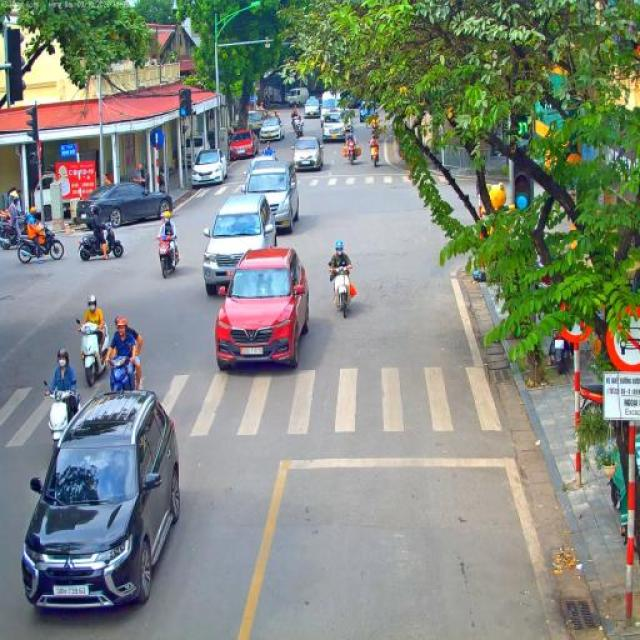car: (20, 390, 181, 612), (214, 246, 310, 372), (202, 192, 278, 296), (76, 182, 173, 228), (240, 159, 300, 233), (192, 148, 228, 186), (291, 135, 324, 171), (321, 109, 354, 142), (228, 129, 258, 161), (260, 117, 284, 142), (245, 111, 264, 138), (304, 98, 321, 120)
motorcycle: (579, 382, 633, 470), (43, 380, 81, 461), (76, 318, 110, 387), (77, 222, 125, 262), (16, 225, 65, 264), (329, 264, 351, 318), (105, 356, 137, 392), (156, 232, 180, 278), (547, 328, 571, 373), (0, 215, 25, 250), (367, 138, 381, 168), (344, 138, 358, 166), (294, 122, 304, 138), (370, 124, 380, 140)
truck: (319, 89, 342, 127), (359, 100, 379, 124), (286, 88, 310, 106)
